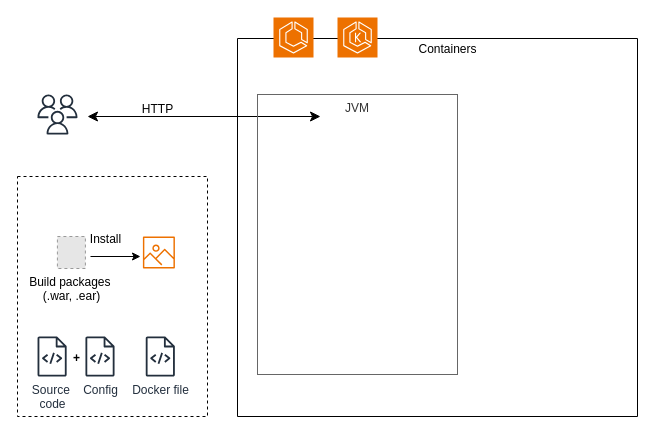
Some shapes in this 655 by 434 pixel diagram are drawn without their labels. Grey dashed boxes stand in for pictures. Each missing label, with the centre of its shape:
"Amazon ECS" goes at [293,37].
"Amazon EKS" goes at [357,37].
"Users" goes at [57,114].
